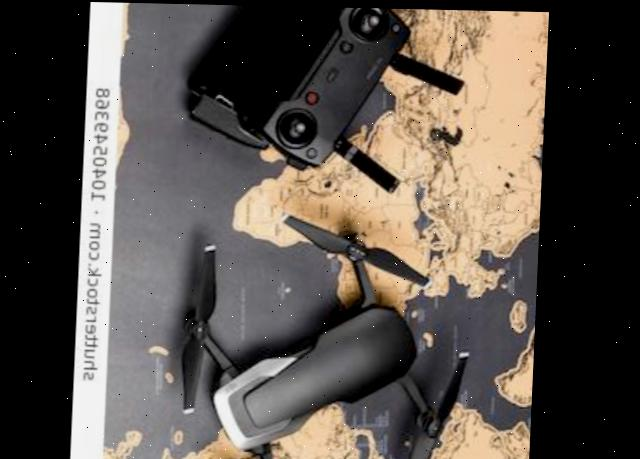drone: (160, 219, 495, 459)
